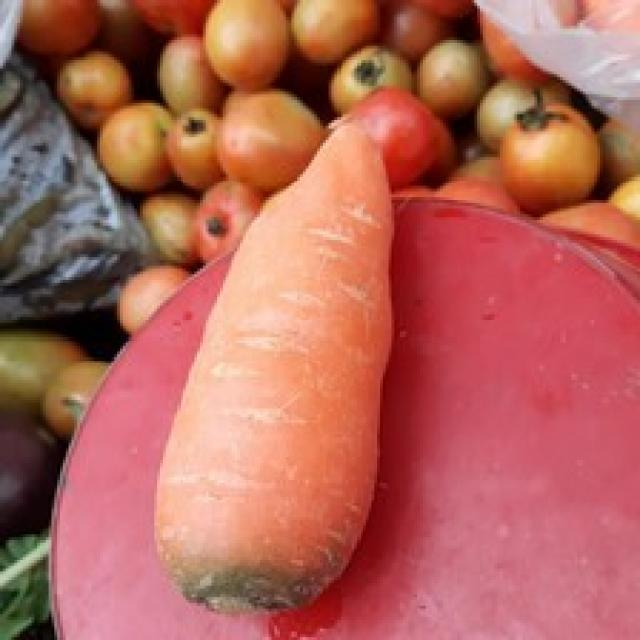carrot: (152, 124, 394, 607)
